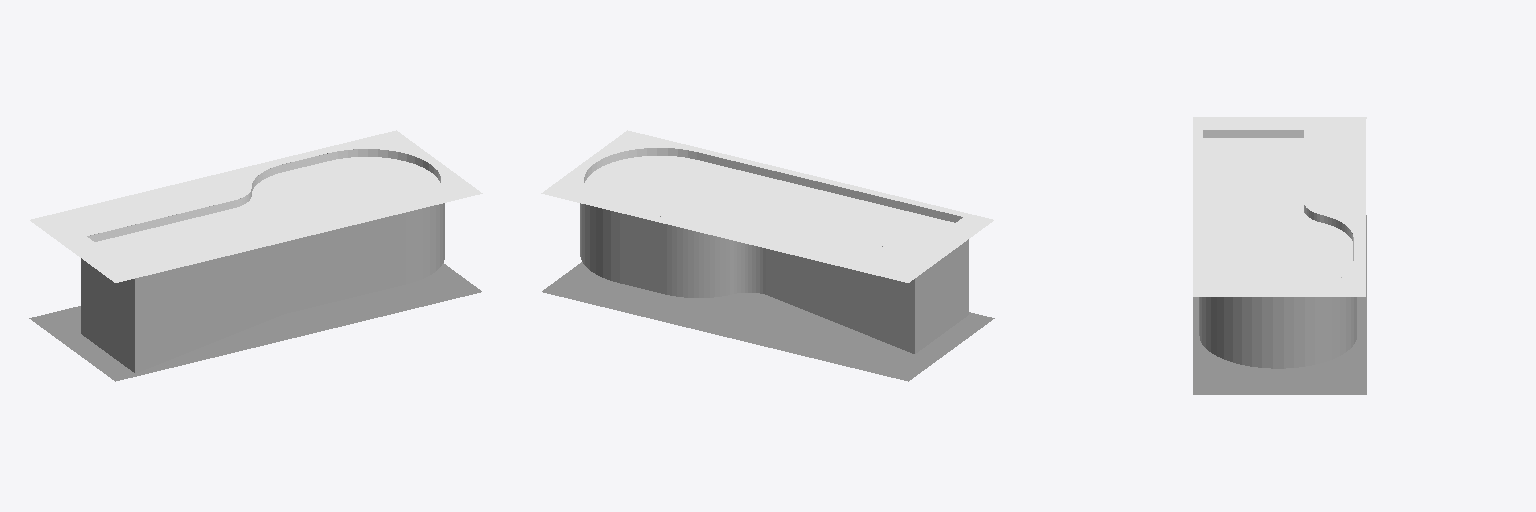
Rendered from Piscina.obj.
3 views of the same model, side by side, from view 1: azimuth 30°, elevation 25°; view 2: azimuth 150°, elevation 25°; view 3: azimuth 270°, elevation 25° (orthographic).
Visible parts, largest first — view 1: room_1_49_49_49_49_49_17, wall_6_32_32_32_32_32_31, 2, ground_1, wall_5_27_27_27_27_27_19, wall_6_33_33_33_33_33_4, wall_1_2_2_2_2_2_11, wall_4_23_23_23_23_23_6, wall_1_5_5_5_5_5_13; view 2: room_1_49_49_49_49_49_17, ground_1, 2, wall_4_20_20_20_20_20_14, wall_3_14_14_14_14_14_27, wall_6_33_33_33_33_33_4, wall_2_8_8_8_8_8_3, wall_1_2_2_2_2_2_11, wall_8_44_44_44_44_44_26, wall_7_41_41_41_41_41_25, wall_1_5_5_5_5_5_13; view 3: room_1_49_49_49_49_49_17, 2, wall_1_2_2_2_2_2_11, ground_1, wall_5_29_29_29_29_29_10.
Part boxes in pixels (x1,y1,x2,y2): room_1_49_49_49_49_49_17: (95,157,440,272); wall_6_32_32_32_32_32_31: (135,242,283,373); 2: (30,130,482,282); ground_1: (29,263,481,381); wall_5_27_27_27_27_27_19: (284,213,405,313); wall_6_33_33_33_33_33_4: (81,258,134,372); wall_1_2_2_2_2_2_11: (353,149,444,283); wall_4_23_23_23_23_23_6: (87,201,231,241); wall_1_5_5_5_5_5_13: (329,149,440,182); room_1_49_49_49_49_49_17: (585,156,954,253); ground_1: (542,262,994,381); 2: (541,130,993,282); wall_4_20_20_20_20_20_14: (766,249,914,353); wall_3_14_14_14_14_14_27: (667,224,729,297); wall_6_33_33_33_33_33_4: (915,239,968,353); wall_2_8_8_8_8_8_3: (620,213,666,294); wall_1_2_2_2_2_2_11: (580,203,619,282); wall_8_44_44_44_44_44_26: (730,240,765,294); wall_7_41_41_41_41_41_25: (697,152,818,189); wall_1_5_5_5_5_5_13: (584,148,696,182); room_1_49_49_49_49_49_17: (1203,138,1352,291); 2: (1193,117,1366,296); wall_1_2_2_2_2_2_11: (1199,297,1356,368); ground_1: (1193,215,1366,394); wall_5_29_29_29_29_29_10: (1203,130,1303,137).
Bounding box in the file's own units: 832 × 213 × 339.